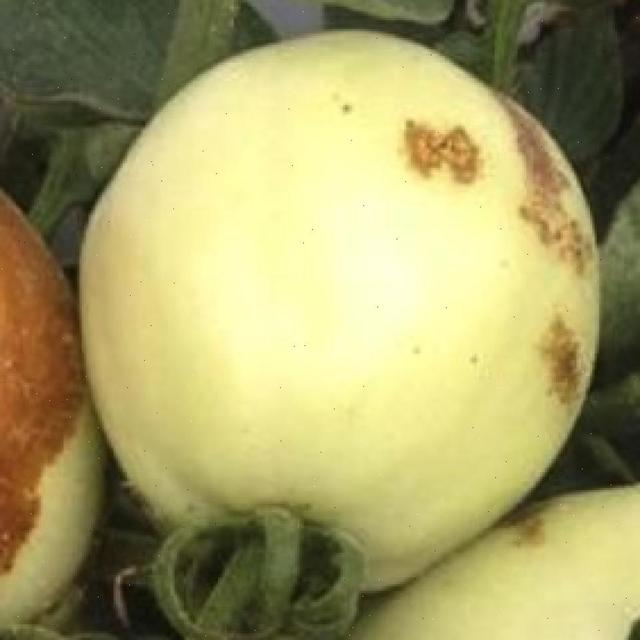Spotted wilt Virus Fruit: (49, 19, 403, 399)
